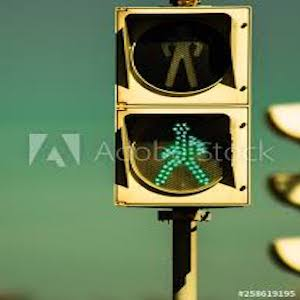green: (149, 120, 212, 188)
